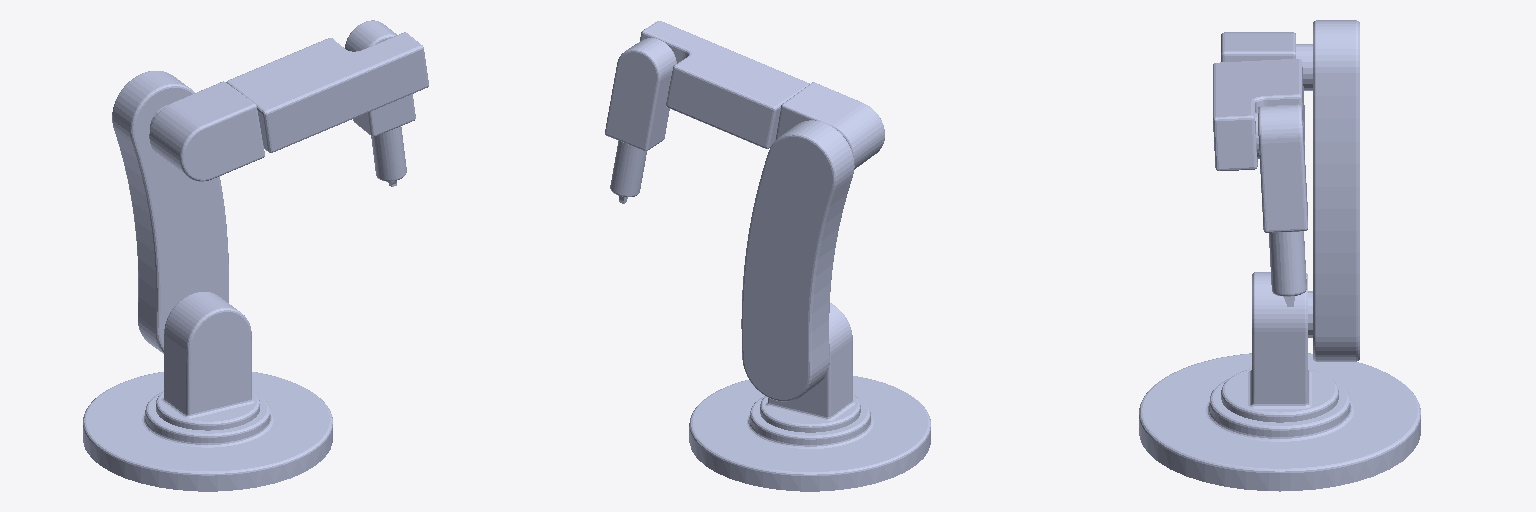
The robot description file, URDF, robot "arm_description":
<?xml version="1.0" encoding="utf-8" ?>
<!-- This URDF was automatically created by SolidWorks to URDF Exporter! Originally created by [author] ([email redacted]) 
     Commit Version: 1.6.0-4-g7f85cfe  Build Version: 1.6.7995.38578
     For more information, please see http://wiki.ros.org/sw_urdf_exporter -->
<robot name="arm_description">
    <link name="world" />
    <joint name="fixed" type="fixed">
        <parent link="world" />
        <child link="base_link" />
    </joint>
    <link name="base_link">
        
<inertial>
            <origin xyz="4.44089209850063E-16 1.11022302462516E-16 0.0514417763716412" rpy="0 0 0" />
            <mass value="108.284504149541" />
            <inertia ixx="10.3104554144266" ixy="-8.67361737988404E-19" ixz="-1.22954364886803E-16" iyy="10.3104554144266" iyz="8.44583243620029E-20" izz="20.3820808532094" />
        </inertial>

        <visual>
            <origin xyz="0 0 0" rpy="0 0 0" />
            <geometry>
                <mesh filename="package://arm_description/meshes/base_link.STL" />
            </geometry>
            <material name="">
                <color rgba="0.792156862745098 0.819607843137255 0.933333333333333 1" />
            </material>
        </visual>
        <collision>
            <origin xyz="0 0 0" rpy="0 0 0" />
            <geometry>
                <mesh filename="package://arm_description/meshes/base_link.STL" />
            </geometry>
        </collision>
    </link>
    <link name="Link_1">
        
<inertial>
            <origin xyz="-1.1102E-16 -0.0033187 0.25085" rpy="0 0 0" />
            <mass value="67.685" />
            <inertia ixx="3.1327" ixy="-2.4395E-17" ixz="2.6317E-16" iyy="3.3623" iyz="0.055966" izz="1.5133" />
        </inertial>

        <visual>
            <origin xyz="0 0 0" rpy="0 0 0" />
            <geometry>
                <mesh filename="package://arm_description/meshes/Link_1.STL" />
            </geometry>
            <material name="">
                <color rgba="0.79216 0.81961 0.93333 1" />
            </material>
        </visual>
        <collision>
            <origin xyz="0 0 0" rpy="0 0 0" />
            <geometry>
                <mesh filename="package://arm_description/meshes/Link_1.STL" />
            </geometry>
        </collision>
    </link>
    <joint name="Joint_1" type="continuous">
        <origin xyz="0 0 0.05" rpy="0 0 0" />
        <parent link="base_link" />
        <child link="Link_1" />
        <axis xyz="0 0 1" />
        <limit effort="1000" velocity="5" />
        <dynamics damping="100" friction="100" />
    </joint>
    <link name="Link_2">
        
<inertial>
            <origin xyz="-0.0387921758966489 0.244021044499188 0.507292729854649" rpy="0 0 0" />
            <mass value="114.020852929309" />
            <inertia ixx="19.3798030997468" ixy="0.0465479951424549" ixz="2.11128304125017" iyy="20.6010760279671" iyz="-0.5019445315697" izz="2.24985910139997" />
        </inertial>

        <visual>
            <origin xyz="0 0 0" rpy="0 0 0" />
            <geometry>
                <mesh filename="package://arm_description/meshes/Link_2.STL" />
            </geometry>
            <material name="">
                <color rgba="0.792156862745098 0.819607843137255 0.933333333333333 1" />
            </material>
        </visual>
        <collision>
            <origin xyz="0 0 0" rpy="0 0 0" />
            <geometry>
                <mesh filename="package://arm_description/meshes/Link_2.STL" />
            </geometry>
        </collision>
    </link>
    <joint name="Joint_2" type="continuous">
        <origin xyz="0 -0.01 0.5" rpy="0 0 0" />
        <parent link="Link_1" />
        <child link="Link_2" />
        <axis xyz="0 1 0" />
        <limit effort="1000" velocity="5" />
        <dynamics damping="100" friction="100" />
    </joint>
    <link name="Link_3">
        
<inertial>
            <origin xyz="0.06212792641648 -0.121241407601864 0" rpy="0 0 0" />
            <mass value="42.148800531395" />
            <inertia ixx="0.99355318344213" ixy="0.101493931350646" ixz="-1.52655665885959E-16" iyy="0.824610923583066" iyz="6.90636783873266E-17" izz="1.25305124522494" />
        </inertial>

        <visual>
            <origin xyz="0 0 0" rpy="0 0 0" />
            <geometry>
                <mesh filename="package://arm_description/meshes/Link_3.STL" />
            </geometry>
            <material name="">
                <color rgba="0.792156862745098 0.819607843137255 0.933333333333333 1" />
            </material>
        </visual>
        <collision>
            <origin xyz="0 0 0" rpy="0 0 0" />
            <geometry>
                <mesh filename="package://arm_description/meshes/Link_3.STL" />
            </geometry>
        </collision>
    </link>
    <joint name="Joint_3" type="continuous">
        <origin xyz="-0.14063 0.08 1.0921" rpy="0 -0.16761 0" />
        <parent link="Link_2" />
        <child link="Link_3" />
        <axis xyz="0 1 0" />
        <limit effort="1000" velocity="5" />
        <dynamics damping="100" friction="100" />
    </joint>
    <link name="Link_4">
        
<inertial>
            <origin xyz="0.475147835501271 -0.0150583271714575 -2.22044604925031E-16" rpy="0 0 0" />
            <mass value="68.1391298927107" />
            <inertia ixx="1.11172911605074" ixy="0.416641583496804" ixz="-9.71445146547012E-17" iyy="4.30945735554388" iyz="5.29090660172926E-17" izz="4.77417111552794" />
        </inertial>

        <visual>
            <origin xyz="0 0 0" rpy="0 0 0" />
            <geometry>
                <mesh filename="package://arm_description/meshes/Link_4.STL" />
            </geometry>
            <material name="">
                <color rgba="0.792156862745098 0.819607843137255 0.933333333333333 1" />
            </material>
        </visual>
        <collision>
            <origin xyz="0 0 0" rpy="0 0 0" />
            <geometry>
                <mesh filename="package://arm_description/meshes/Link_4.STL" />
            </geometry>
        </collision>
    </link>
    <joint name="Joint_4" type="continuous">
        <origin xyz="0.17 -0.16 0" rpy="0.051061 0 0" />
        <parent link="Link_3" />
        <child link="Link_4" />
        <axis xyz="1 0 0" />
        <limit effort="1000" velocity="5" />
        <dynamics damping="100" friction="100" />
    </joint>
    <link name="Link_5">
        
<inertial>
            <origin xyz="0.115172018650206 0.20003935351032 0" rpy="0 0 0" />
            <mass value="26.1792607101279" />
            <inertia ixx="0.285609386275297" ixy="-0.0752593020796441" ixz="1.07552855510562E-16" iyy="0.623423376817981" iyz="5.29090660172926E-17" izz="0.661801852001755" />
        </inertial>

        <visual>
            <origin xyz="0 0 0" rpy="0 0 0" />
            <geometry>
                <mesh filename="package://arm_description/meshes/Link_5.STL" />
            </geometry>
            <material name="">
                <color rgba="0.792156862745098 0.819607843137255 0.933333333333333 1" />
            </material>
        </visual>
        <collision>
            <origin xyz="0 0 0" rpy="0 0 0" />
            <geometry>
                <mesh filename="package://arm_description/meshes/Link_5.STL" />
            </geometry>
        </collision>
    </link>
    <joint name="Joint_5" type="continuous">
        <origin xyz="0.92 -0.13 0" rpy="-3.1416 1.556 -3.1416" />
        <parent link="Link_4" />
        <child link="Link_5" />
        <axis xyz="0 1 0" />
        <limit effort="1000" velocity="5" />
        <dynamics damping="100" friction="100" />
    </joint>
    <link name="Link_6">
        
<inertial>
            <origin xyz="0.18559773201635 5.55111512312578E-17 0" rpy="0 0 0" />
            <mass value="6.54341683337333" />
            <inertia ixx="0.0185967699606687" ixy="-3.42624827164364E-19" ixz="1.45283091113058E-17" iyy="0.085182826128462" iyz="-5.96311194867027E-19" izz="0.085027826128462" />
        </inertial>

        <visual>
            <origin xyz="0 0 0" rpy="0 0 0" />
            <geometry>
                <mesh filename="package://arm_description/meshes/Link_6.STL" />
            </geometry>
            <material name="">
                <color rgba="0.792156862745098 0.819607843137255 0.933333333333333 1" />
            </material>
        </visual>
        <collision>
            <origin xyz="0 0 0" rpy="0 0 0" />
            <geometry>
                <mesh filename="package://arm_description/meshes/Link_6.STL" />
            </geometry>
        </collision>
    </link>
    <joint name="Joint_6" type="continuous">
        <origin xyz="0.32 0.225 0" rpy="0.010435 0 0" />
        <parent link="Link_5" />
        <child link="Link_6" />
        <axis xyz="1 0 0" />
        <limit effort="1000" velocity="5" />
        <dynamics damping="100" friction="100" />
    </joint>
    <link name="Gripper_R">
        
<inertial>
            <origin xyz="0.0529946219981734 0.00801532488841966 -0.0150000000000134" rpy="0 0 0" />
            <mass value="0.0633427190862049" />
            <inertia ixx="7.22681448314867E-06" ixy="4.6946256897721E-06" ixz="2.73168125489512E-20" iyy="6.51037663927842E-05" iyz="-1.64112633530521E-21" izz="6.28291730130021E-05" />
        </inertial>

        <visual>
            <origin xyz="0 0 0" rpy="0 0 0" />
            <geometry>
                <mesh filename="package://arm_description/meshes/Gripper_R.STL" />
            </geometry>
            <material name="">
                <color rgba="0.792156862745098 0.819607843137255 0.933333333333333 1" />
            </material>
        </visual>
        <collision>
            <origin xyz="0 0 0" rpy="0 0 0" />
            <geometry>
                <mesh filename="package://arm_description/meshes/Gripper_R.STL" />
            </geometry>
        </collision>
    </link>
    <joint name="Joint_Gripper_R" type="prismatic">
        <origin xyz="0.33 -0.005 -0.015" rpy="-3.1416 0 0" />
        <parent link="Link_6" />
        <child link="Gripper_R" />
        <axis xyz="0 1 0" />
        <limit lower="0" upper="0.03" effort="1000" velocity="0.1" />
        <dynamics damping="100" friction="100" />
    </joint>
    <link name="Gripper_L">
        
<inertial>
            <origin xyz="0.0529946219981732 0.00801532488398055 0.0150000000000137" rpy="0 0 0" />
            <mass value="0.0633427190862051" />
            <inertia ixx="7.22681448314873E-06" ixy="4.6946256897721E-06" ixz="-7.60212070160735E-20" iyy="6.51037663927844E-05" iyz="8.1129874479201E-21" izz="6.28291730130024E-05" />
        </inertial>

        <visual>
            <origin xyz="0 0 0" rpy="0 0 0" />
            <geometry>
                <mesh filename="package://arm_description/meshes/Gripper_L.STL" />
            </geometry>
            <material name="">
                <color rgba="0.792156862745098 0.819607843137255 0.933333333333333 1" />
            </material>
        </visual>
        <collision>
            <origin xyz="0 0 0" rpy="0 0 0" />
            <geometry>
                <mesh filename="package://arm_description/meshes/Gripper_L.STL" />
            </geometry>
        </collision>
    </link>
    <joint name="Joint_Gripper_L" type="prismatic">
        <origin xyz="0.33 0.005 -0.015" rpy="0 0 0" />
        <parent link="Link_6" />
        <child link="Gripper_L" />
        <axis xyz="0 1 0" />
        <limit lower="0" upper="0.03" effort="1000" velocity="0.1" />
        <dynamics damping="100" friction="100" />
    </joint>
    
<transmission name="trans_Joint_1">
        <type>transmission_interface/SimpleTransmission</type>
        <joint name="Joint_1">
            <hardwareInterface>hardware_interface/PositionJointInterface</hardwareInterface>
        </joint>
        <actuator name="Joint_1_motor">
            <hardwareInterface>hardware_interface/PositionJointInterface</hardwareInterface>
            <mechanicalReduction>1</mechanicalReduction>
        </actuator>
    </transmission>
    <transmission name="trans_Joint_2">
        <type>transmission_interface/SimpleTransmission</type>
        <joint name="Joint_2">
            <hardwareInterface>hardware_interface/PositionJointInterface</hardwareInterface>
        </joint>
        <actuator name="Joint_2_motor">
            <hardwareInterface>hardware_interface/PositionJointInterface</hardwareInterface>
            <mechanicalReduction>1</mechanicalReduction>
        </actuator>
    </transmission>
    <transmission name="trans_Joint_3">
        <type>transmission_interface/SimpleTransmission</type>
        <joint name="Joint_3">
            <hardwareInterface>hardware_interface/PositionJointInterface</hardwareInterface>
        </joint>
        <actuator name="Joint_3_motor">
            <hardwareInterface>hardware_interface/PositionJointInterface</hardwareInterface>
            <mechanicalReduction>1</mechanicalReduction>
        </actuator>
    </transmission>
    <transmission name="trans_Joint_4">
        <type>transmission_interface/SimpleTransmission</type>
        <joint name="Joint_4">
            <hardwareInterface>hardware_interface/PositionJointInterface</hardwareInterface>
        </joint>
        <actuator name="Joint_4_motor">
            <hardwareInterface>hardware_interface/PositionJointInterface</hardwareInterface>
            <mechanicalReduction>1</mechanicalReduction>
        </actuator>
    </transmission>
    <transmission name="trans_Joint_5">
        <type>transmission_interface/SimpleTransmission</type>
        <joint name="Joint_5">
            <hardwareInterface>hardware_interface/PositionJointInterface</hardwareInterface>
        </joint>
        <actuator name="Joint_5_motor">
            <hardwareInterface>hardware_interface/PositionJointInterface</hardwareInterface>
            <mechanicalReduction>1</mechanicalReduction>
        </actuator>
    </transmission>
    <transmission name="trans_Joint_6">
        <type>transmission_interface/SimpleTransmission</type>
        <joint name="Joint_6">
            <hardwareInterface>hardware_interface/PositionJointInterface</hardwareInterface>
        </joint>
        <actuator name="Joint_6_motor">
            <hardwareInterface>hardware_interface/PositionJointInterface</hardwareInterface>
            <mechanicalReduction>1</mechanicalReduction>
        </actuator>
    </transmission>
    <transmission name="trans_Joint_Gripper_R">
        <type>transmission_interface/SimpleTransmission</type>
        <joint name="Joint_Gripper_R">
            <hardwareInterface>hardware_interface/PositionJointInterface</hardwareInterface>
        </joint>
        <actuator name="Joint_Gripper_R_motor">
            <hardwareInterface>hardware_interface/PositionJointInterface</hardwareInterface>
            <mechanicalReduction>1</mechanicalReduction>
        </actuator>
    </transmission>
    <transmission name="trans_Joint_Gripper_L">
        <type>transmission_interface/SimpleTransmission</type>
        <joint name="Joint_Gripper_L">
            <hardwareInterface>hardware_interface/PositionJointInterface</hardwareInterface>
        </joint>
        <actuator name="Joint_Gripper_L_motor">
            <hardwareInterface>hardware_interface/PositionJointInterface</hardwareInterface>
            <mechanicalReduction>1</mechanicalReduction>
        </actuator>
    </transmission>
    <gazebo>
        <plugin name="gazebo_ros_control" filename="libgazebo_ros_control.so">
            <robotNamespace>/</robotNamespace>
        </plugin>
    </gazebo>
</robot>

--- What the picture shows (computed from the rendered views, not written in the file) ---
Views: 3 orthographic renders of the robot side by side, from view 1: azimuth 30°, elevation 25°; view 2: azimuth 150°, elevation 25°; view 3: azimuth 270°, elevation 25°.
Robot: arm_description — 10 links, 9 joints (6 continuous, 2 prismatic, 1 fixed); root link world; default pose: all joints at 0.
Links seen in each view (by area): view 1: base_link, Link_2, Link_4, Link_1, Link_3, Link_5, Link_6; view 2: Link_2, base_link, Link_4, Link_5, Link_1, Link_3, Link_6; view 3: base_link, Link_2, Link_1, Link_4, Link_5, Link_3, Link_6.
Boxes of the visible links, box(x1,y1,x2,y2) form: base_link: box(83, 372, 332, 491); Link_2: box(112, 71, 228, 353); Link_4: box(226, 32, 428, 152); Link_1: box(156, 292, 259, 430); Link_3: box(149, 81, 264, 181); Link_5: box(345, 20, 415, 136); Link_6: box(371, 126, 406, 181); Link_2: box(741, 120, 854, 401); base_link: box(689, 376, 930, 491); Link_4: box(640, 21, 809, 148); Link_5: box(605, 38, 676, 150); Link_1: box(760, 303, 860, 432); Link_3: box(776, 82, 884, 169); Link_6: box(610, 141, 646, 196); base_link: box(1139, 353, 1420, 491); Link_2: box(1308, 20, 1359, 361); Link_1: box(1221, 272, 1338, 422); Link_4: box(1213, 59, 1304, 170); Link_5: box(1255, 104, 1307, 232); Link_3: box(1221, 32, 1312, 90); Link_6: box(1269, 231, 1306, 296).
Size in the robot's own frame: 1.72 by 1.2 by 1.96 metres.
Meshes: 9 distinct files referenced, 9 mesh visuals loaded (9 binary STL).